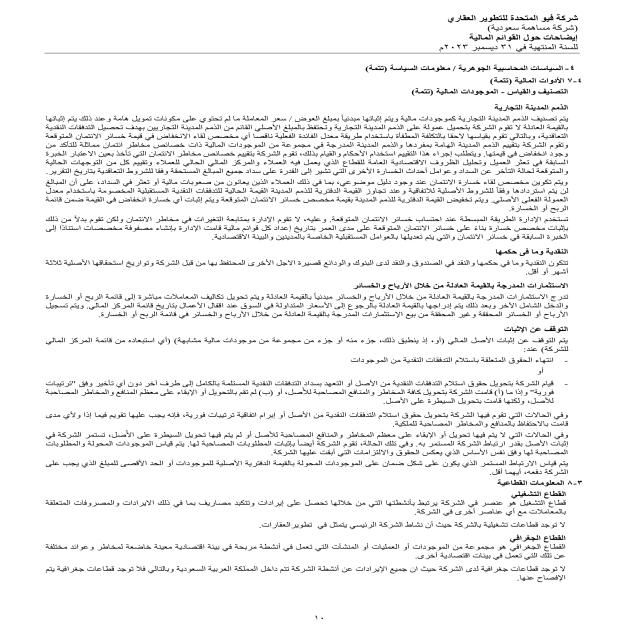notes: (446, 34, 582, 44)
text: (29, 53, 588, 593)
